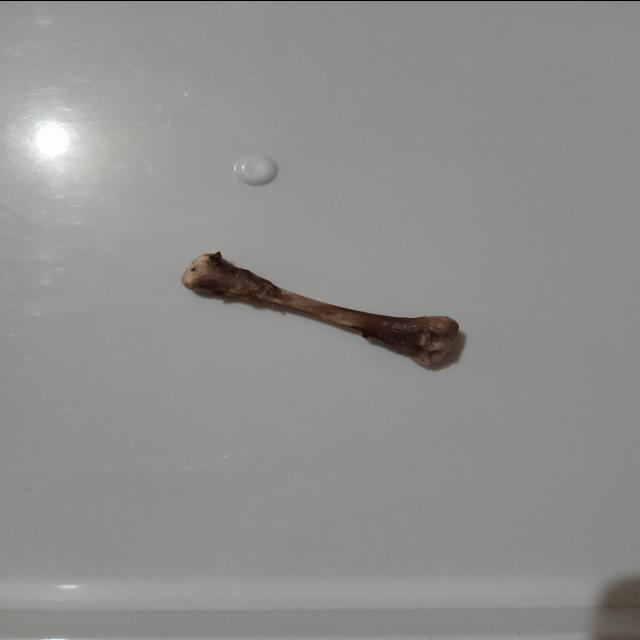bone: (170, 245, 466, 374)
